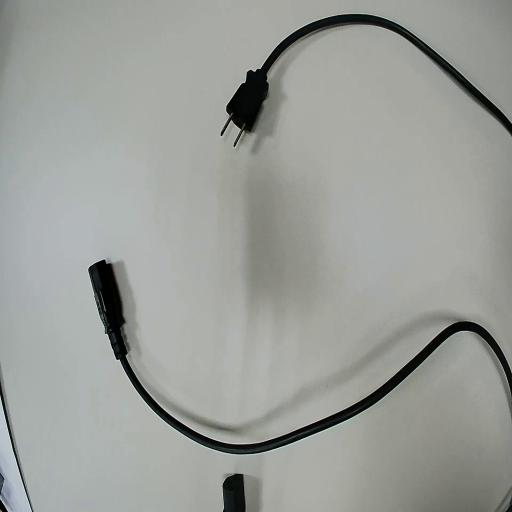wire: (90, 261, 511, 452), (227, 15, 511, 133)
